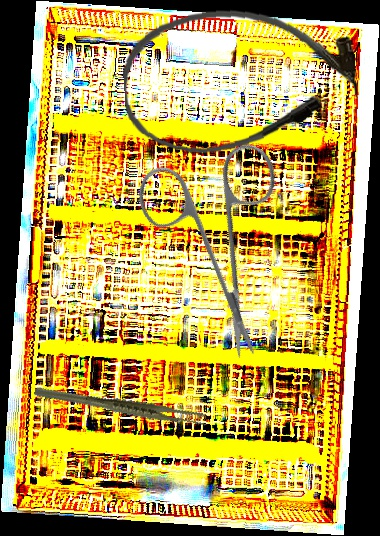Cannula: (119, 1, 361, 159)
Iris Scissors: (88, 103, 349, 365)
Tissue Forceps: (32, 355, 210, 456)
